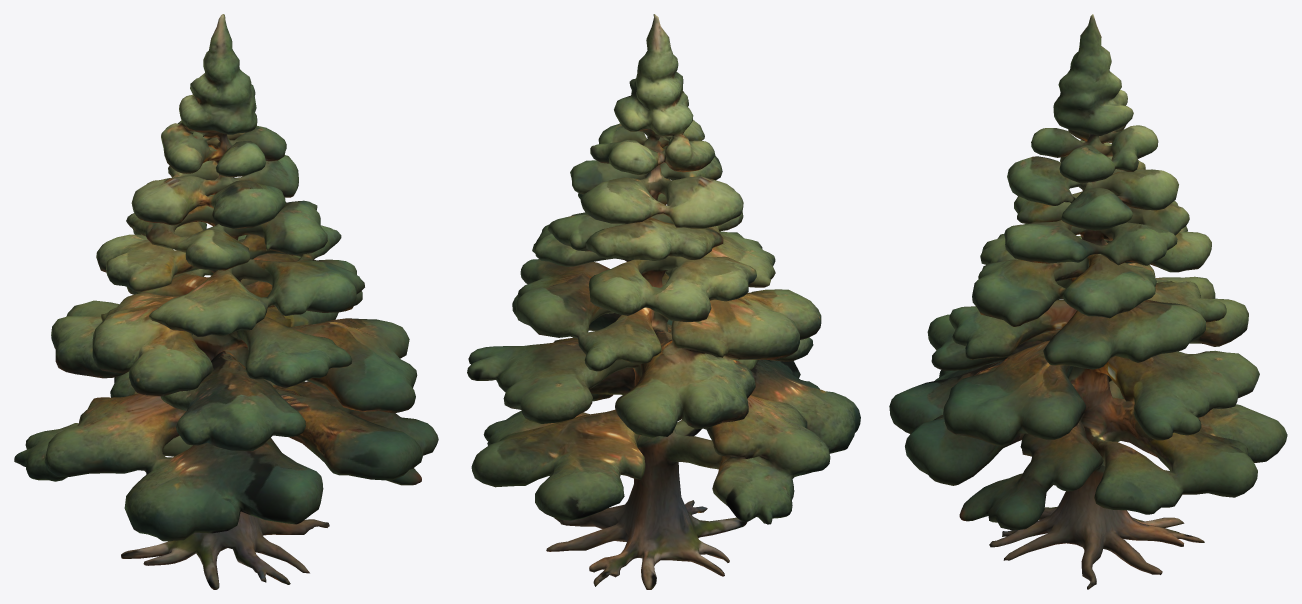
The model's file is tree_03.fbx.
The picture shows the model from 3 angles, left to right: view 1: azimuth 30°, elevation 25°; view 2: azimuth 150°, elevation 25°; view 3: azimuth 270°, elevation 25°; orthographic projection.
Parts seen in each view (by area): view 1: PineTree_02; view 2: PineTree_02; view 3: PineTree_02.
Part boxes in pixels (x1,y1,x2,y2): PineTree_02: [14, 14, 438, 589]; PineTree_02: [467, 14, 860, 589]; PineTree_02: [889, 14, 1287, 589].
Bounding box in the file's own units: 443 × 652 × 445.
1 material, 1 textured.
